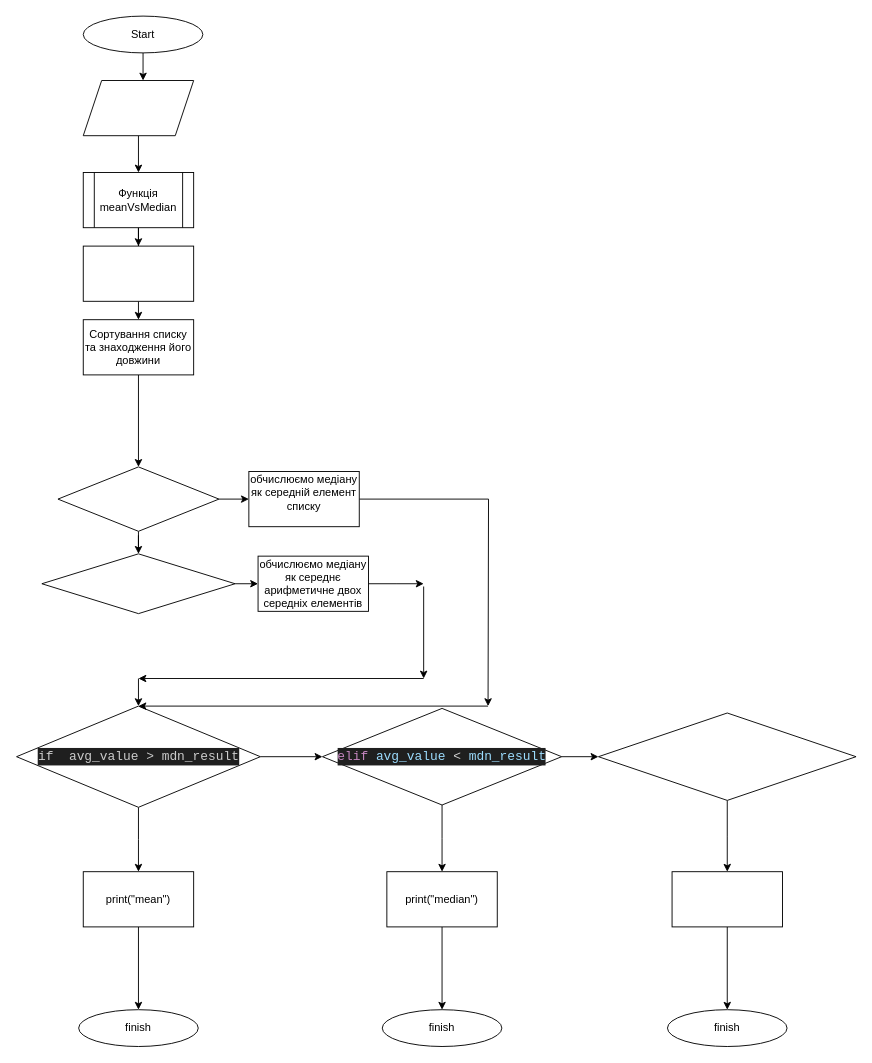
This 872x1063 diagram has some shape labels left out. Here are the shapes that lost their labels. From the top down, the centre of each, then its label:
pixel 138 108: Введення списку чисел
pixel 138 273: Знаходження середнього значення списку
pixel 138 498: if кількість непарна:
pixel 138 583: elif кількість парна:
pixel 727 756: elif avg_value == mdn_result :
pixel 726 899: print("same")
